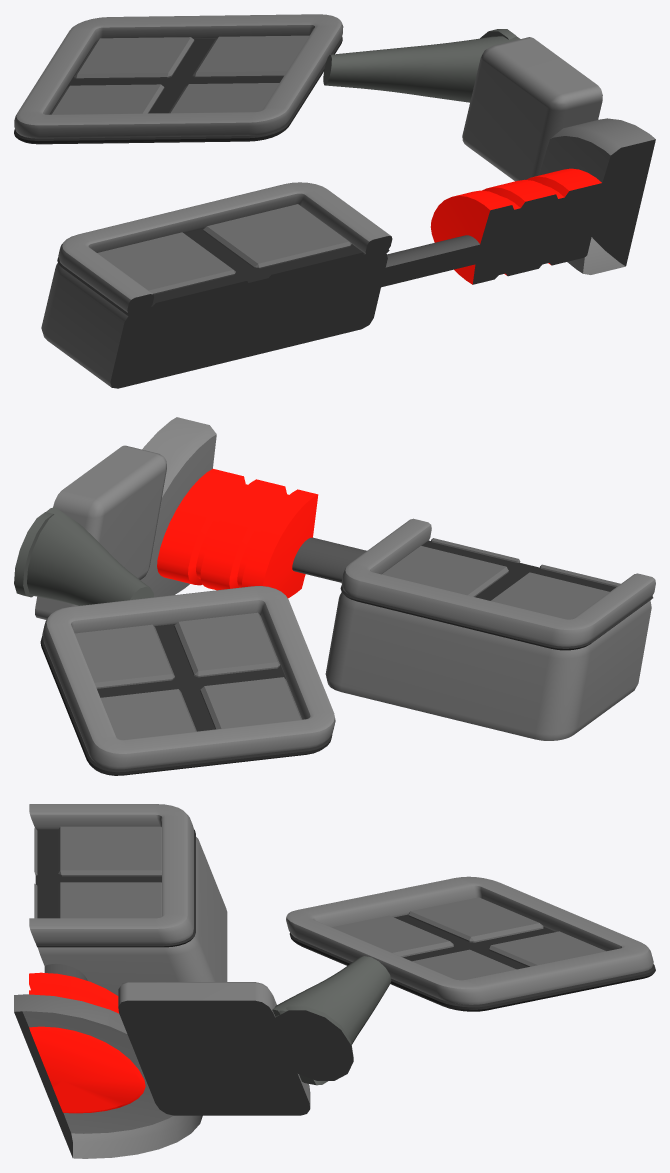
Rendered from station_r_tl.glb.
The picture shows the model from 3 angles, top to bottom: view 1: azimuth 30°, elevation 25°; view 2: azimuth 150°, elevation 25°; view 3: azimuth 270°, elevation 25°; orthographic projection. The views are drawn at different scales.
Parts seen in each view (by area): view 1: station_r_tl; view 2: station_r_tl; view 3: station_r_tl.
Part boxes in pixels (x1,y1,x2,y2): station_r_tl: [14, 14, 655, 388]; station_r_tl: [14, 417, 655, 775]; station_r_tl: [14, 804, 655, 1158].
Bounding box in the file's own units: 23.6 × 7.02 × 25.79.
